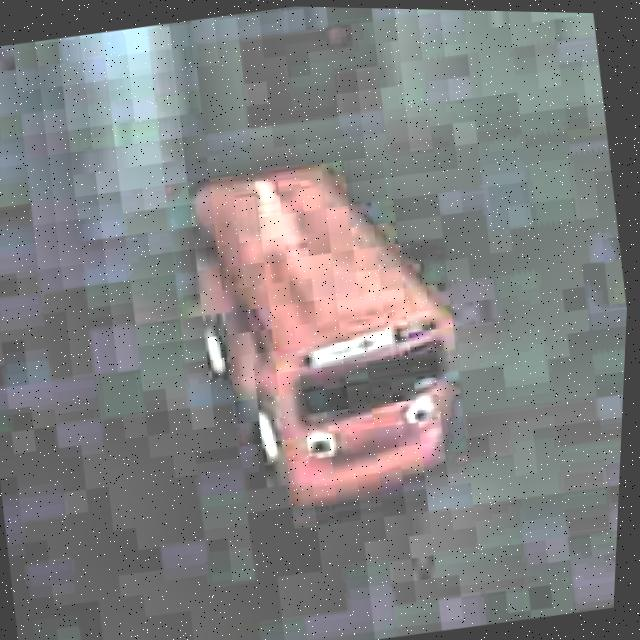bus: (144, 124, 508, 550)
